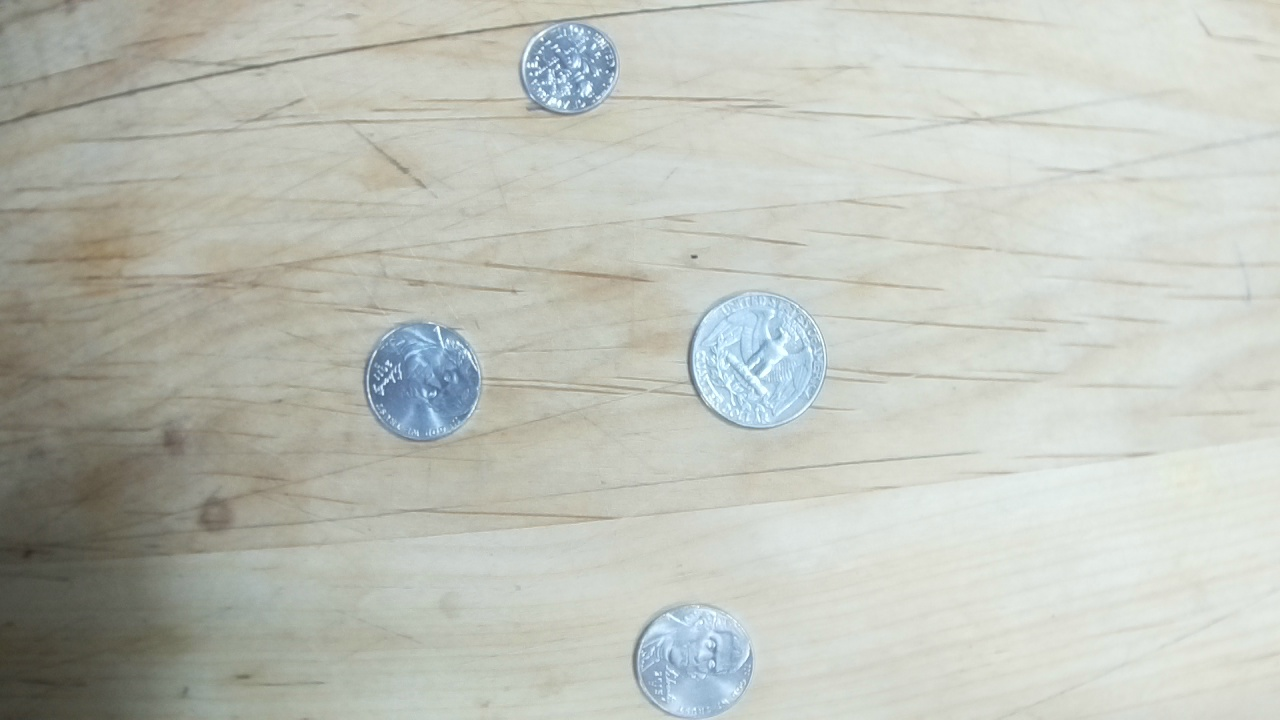dime: (517, 20, 619, 117)
nickel: (364, 319, 481, 441), (631, 604, 754, 720)
quarter: (686, 290, 828, 430)
